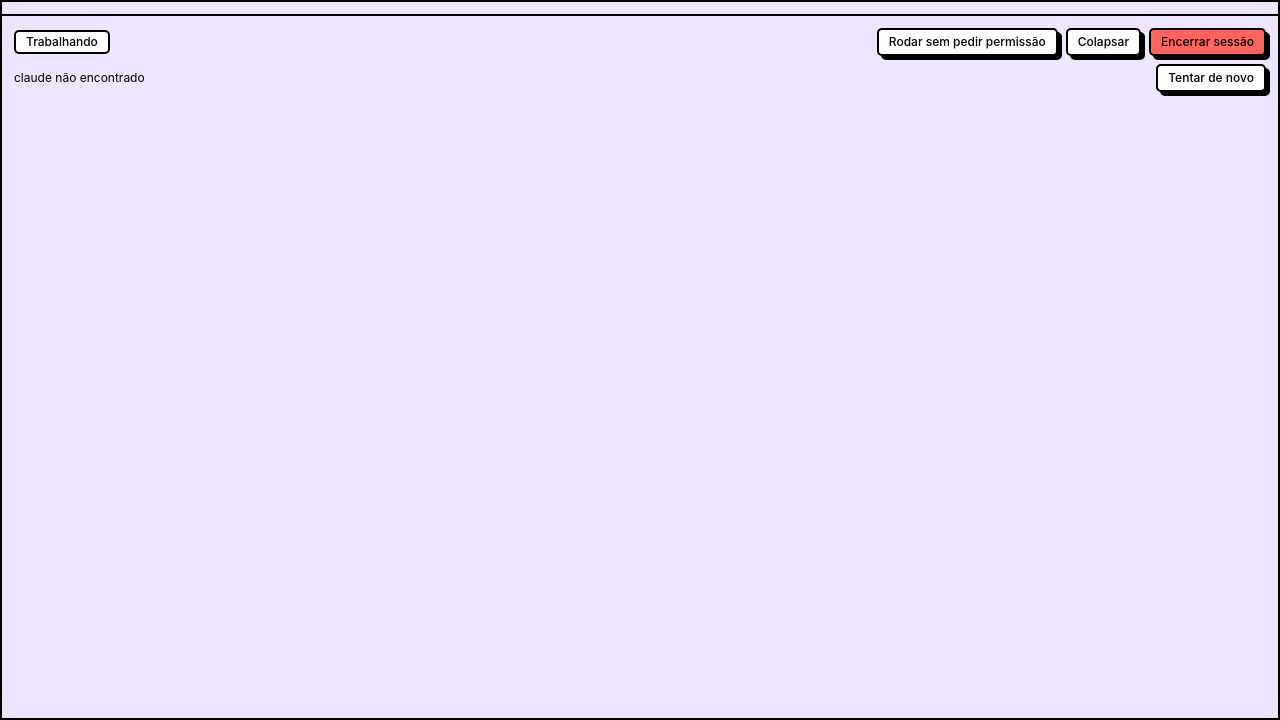
Test case: ClaudeTerminal › claude-missing mostra o erro e o botão de tentar de novo
Check: the text with test id "claude-terminal-error" reads "claude não encontrado", box x1=14 y1=70 x2=145 y2=85
Click the button with test id "claude-terminal-retry": (1211, 78) x1=1156 y1=64 x2=1266 y2=92
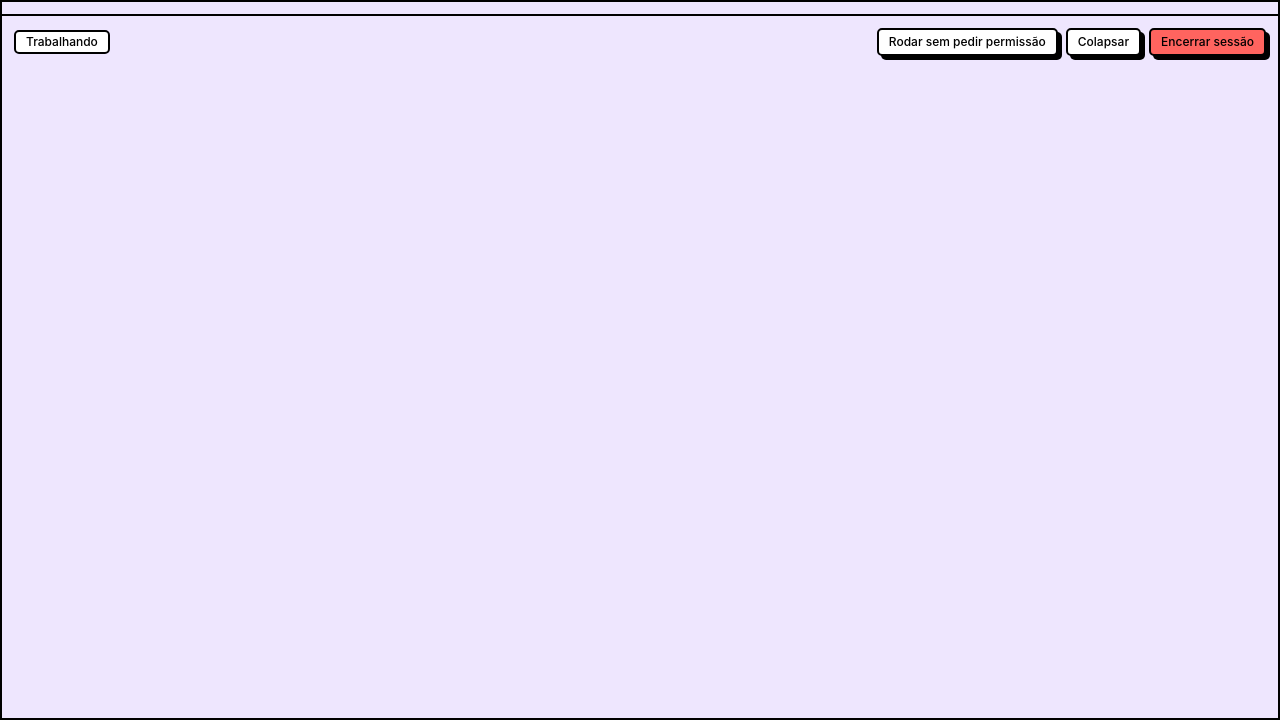
Check: the text with test id "claude-terminal-error" is gone
